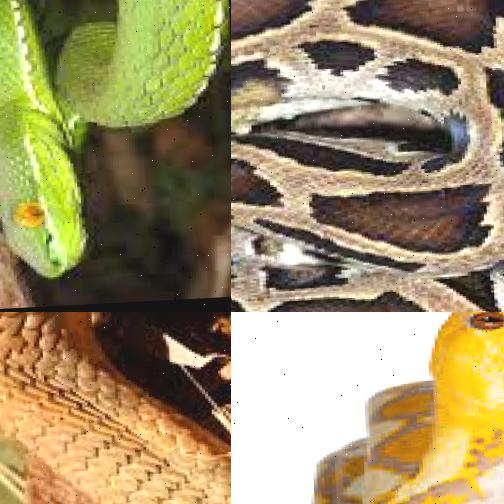snake: (231, 0, 504, 312), (0, 0, 231, 312), (0, 312, 231, 504), (275, 312, 504, 504)
